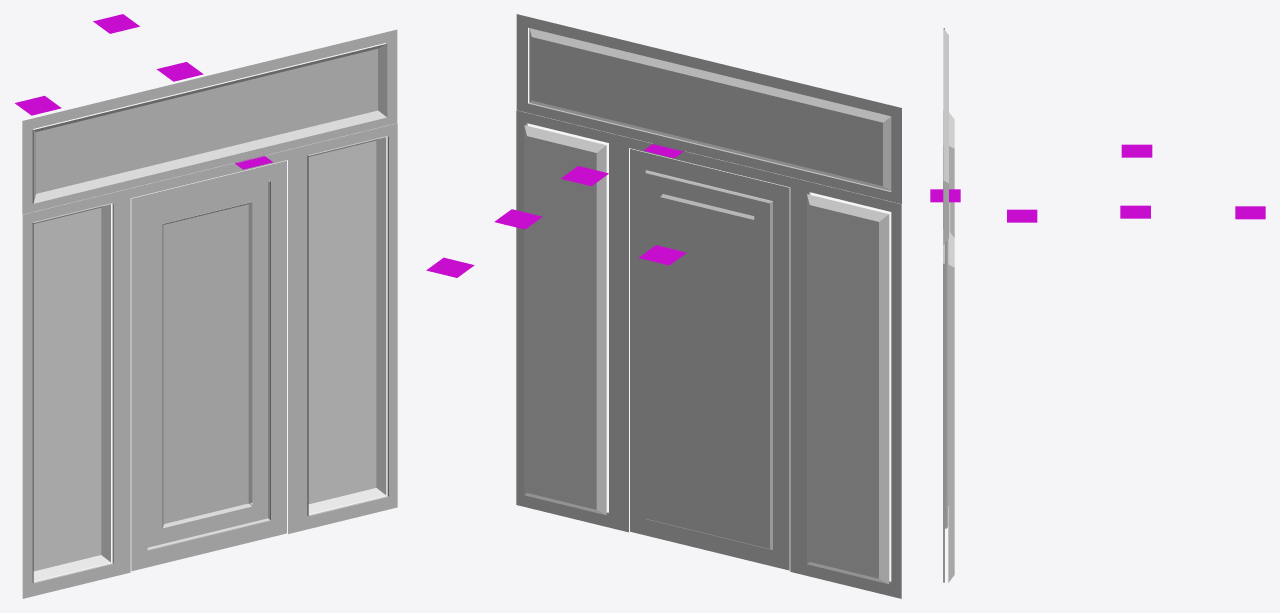
Rendered from Single-leaf.fbx.
The picture shows the model from 3 angles, left to right: view 1: azimuth 30°, elevation 25°; view 2: azimuth 150°, elevation 25°; view 3: azimuth 270°, elevation 25°; orthographic projection. The views are drawn at different scales.
Parts seen in each view (by area): view 1: MainDoor_frame, Door-Leaves(L+R), Skylight, Hinge3, Hinge2, Knob; view 2: MainDoor_frame, Door-Leaves(L+R), Skylight; view 3: Door-Leaves(L+R), MainDoor_frame, Skylight.
Part boxes in pixels (x1,y1,x2,y2): MainDoor_frame: [22, 123, 397, 598]; Door-Leaves(L+R): [33, 137, 386, 581]; Skylight: [22, 29, 397, 214]; Hinge3: [93, 14, 139, 33]; Hinge2: [156, 62, 203, 81]; Knob: [15, 95, 61, 115]; MainDoor_frame: [516, 110, 901, 598]; Door-Leaves(L+R): [524, 125, 889, 584]; Skylight: [516, 14, 901, 203]; Door-Leaves(L+R): [948, 112, 954, 582]; MainDoor_frame: [943, 110, 950, 582]; Skylight: [943, 28, 948, 245].
Bounding box in the file's own units: 74.56 × 90.74 × 65.21.
